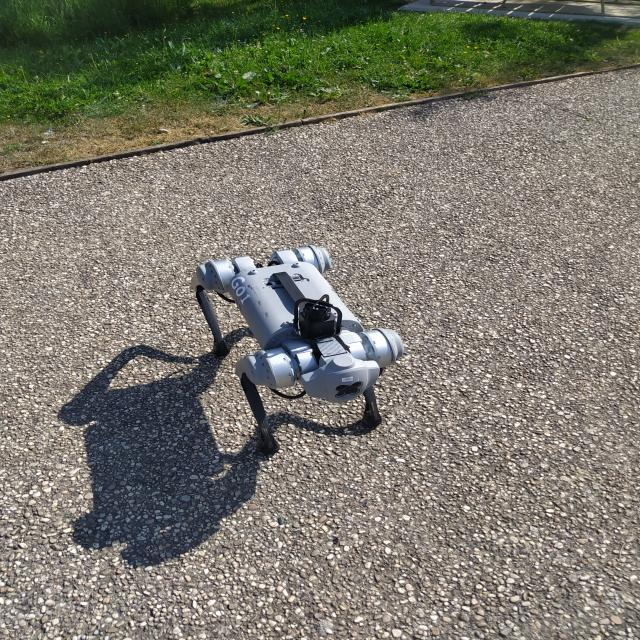unitree-go1-robot: (180, 234, 420, 462)
